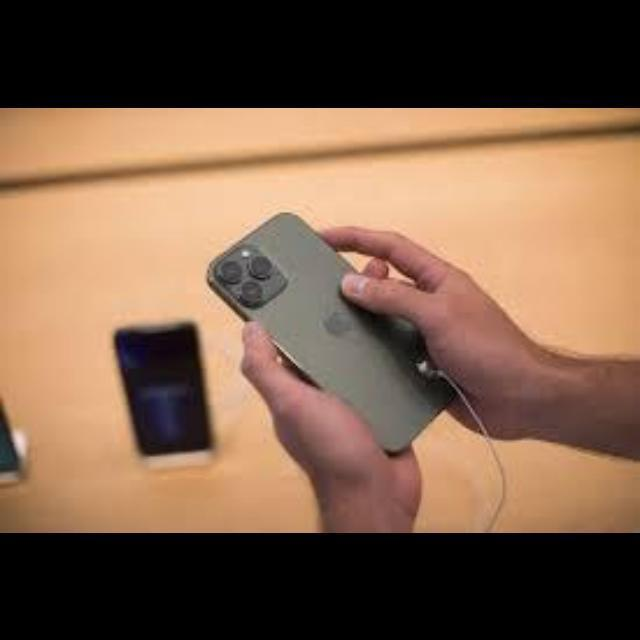phone: (193, 196, 512, 482), (111, 318, 215, 458)
